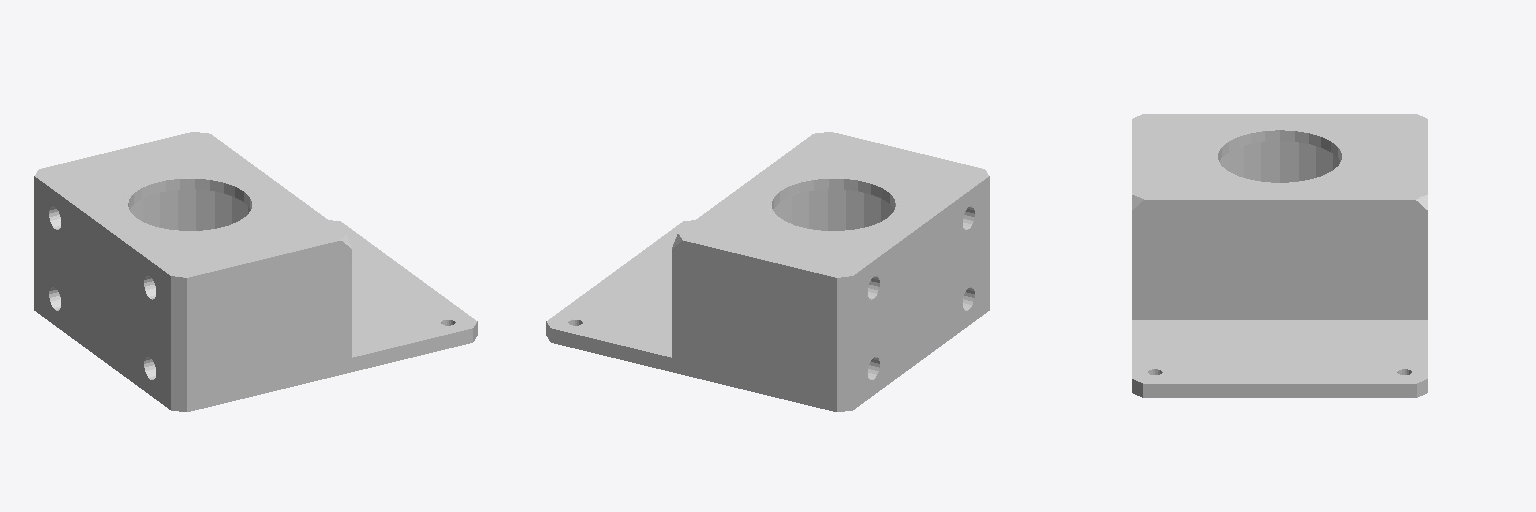
3 renders of one model, left to right at view 1: azimuth 30°, elevation 25°; view 2: azimuth 150°, elevation 25°; view 3: azimuth 270°, elevation 25°, orthographic.
Visible parts, largest first — view 1: Bearing_Box_Material.002; view 2: Bearing_Box_Material.002; view 3: Bearing_Box_Material.002.
Part boxes in pixels (x1,y1,x2,y2): Bearing_Box_Material.002: (34,132,477,411); Bearing_Box_Material.002: (546,132,989,411); Bearing_Box_Material.002: (1132,114,1427,397).
Bounding box in the file's own units: 0.596 × 0.25 × 0.5.
Materials: 1 (1 with a texture image).